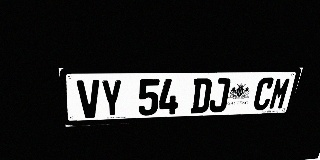4: (158, 79, 180, 115)
5: (138, 79, 160, 116)
C: (252, 77, 276, 111)
D: (190, 78, 213, 113)
J: (208, 78, 231, 113)
M: (268, 77, 292, 110)
V: (76, 80, 101, 118)
Y: (100, 79, 122, 117)
